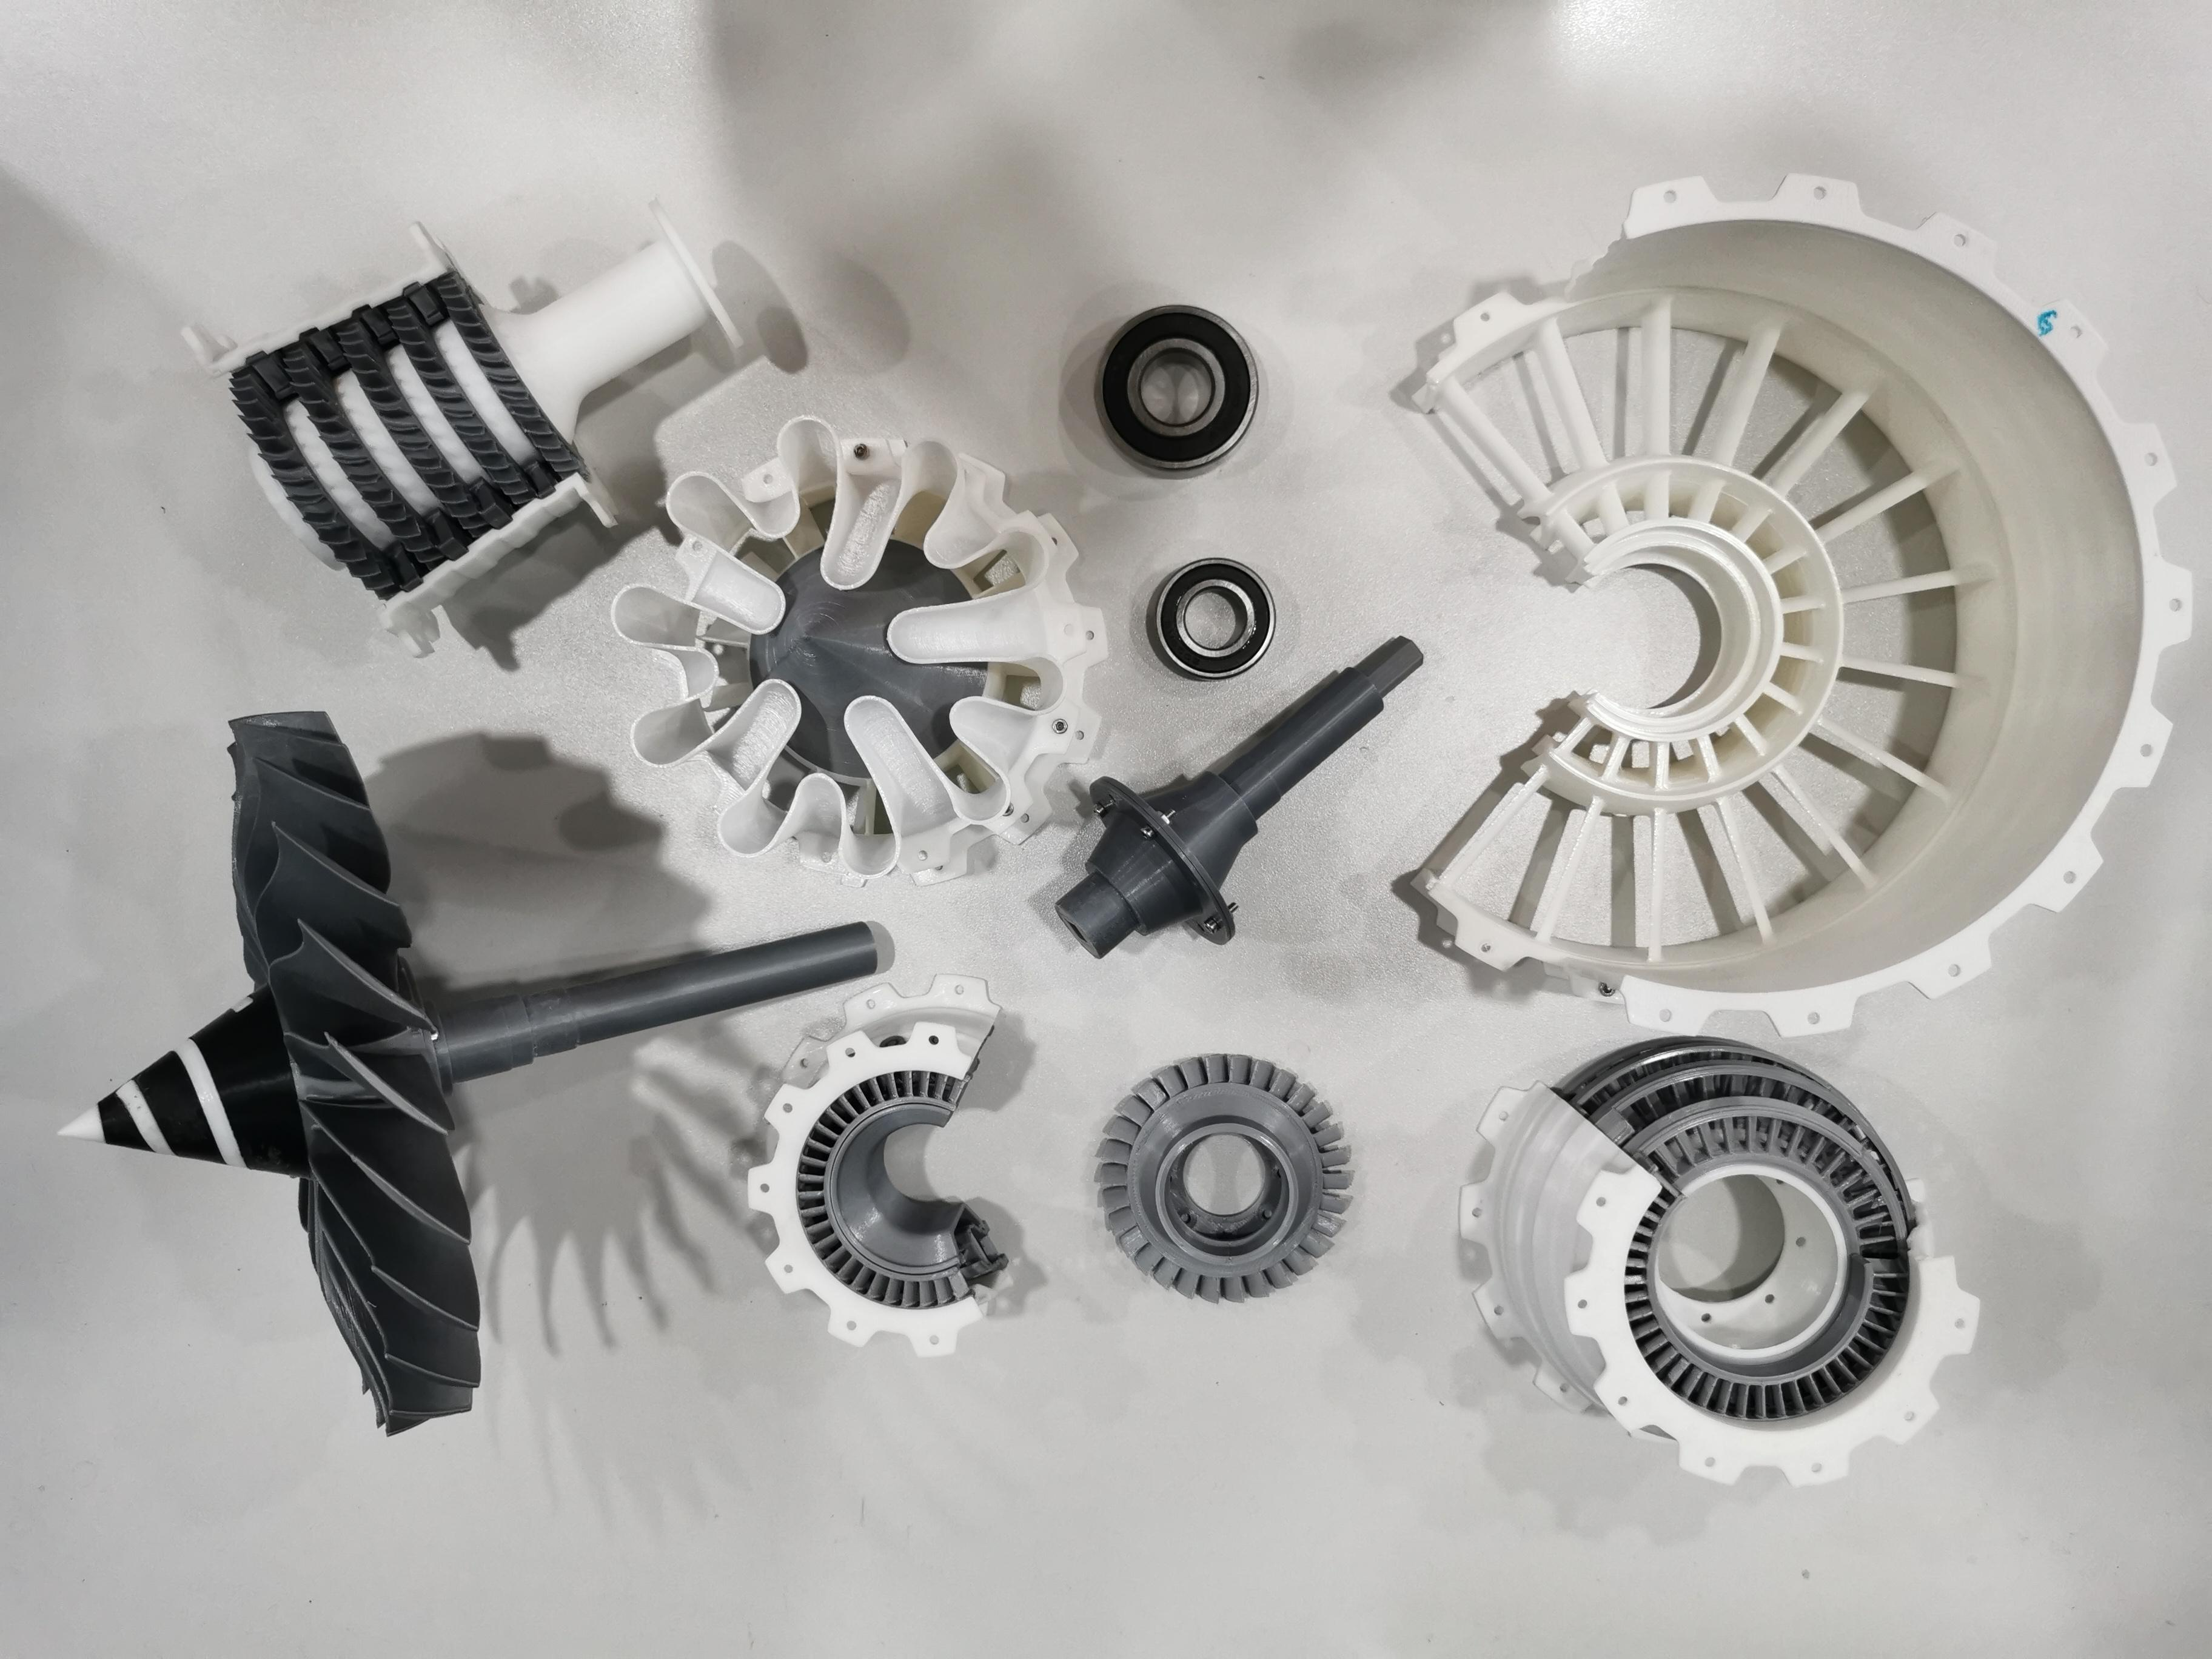Bearing-6003: (1136, 537, 1289, 699)
Bearing-6204: (1082, 293, 1273, 493)
Combustion Section: (733, 958, 1038, 1380)
Fan Casing and Support: (1386, 167, 2202, 1046)
Fan and Low Pressure Shaft: (47, 702, 887, 1441)
HPT Section: (1082, 1039, 1362, 1323)
High Pressure Spool: (174, 183, 772, 667)
LPT Section: (1449, 1025, 1993, 1502)
Low Pressure Spool: (1043, 622, 1432, 979)
Nozzle Section: (604, 411, 1115, 894)
